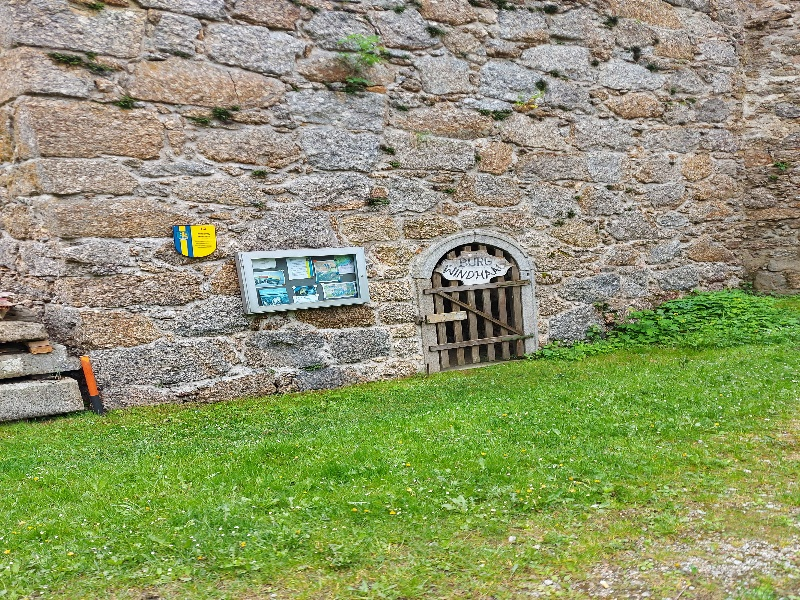dungeon: (406, 218, 552, 376)
